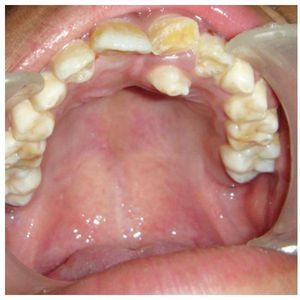UL1BC_healthy: (227, 91, 268, 119)
UL1M_healthy: (225, 143, 281, 180)
UL2BC_healthy: (229, 116, 278, 146)
ULCI_decay: (151, 14, 198, 55)
ULC_decay: (223, 61, 255, 95)
ULLI_decay: (196, 37, 232, 76)
UR1BC_healthy: (12, 105, 52, 138)
UR1M_healthy: (4, 169, 43, 204)
UR2BC_decay: (5, 136, 45, 168)
URCI_decay: (93, 23, 151, 56)
URC_healthy: (38, 76, 68, 109)
URLI_decay: (57, 45, 93, 81)
